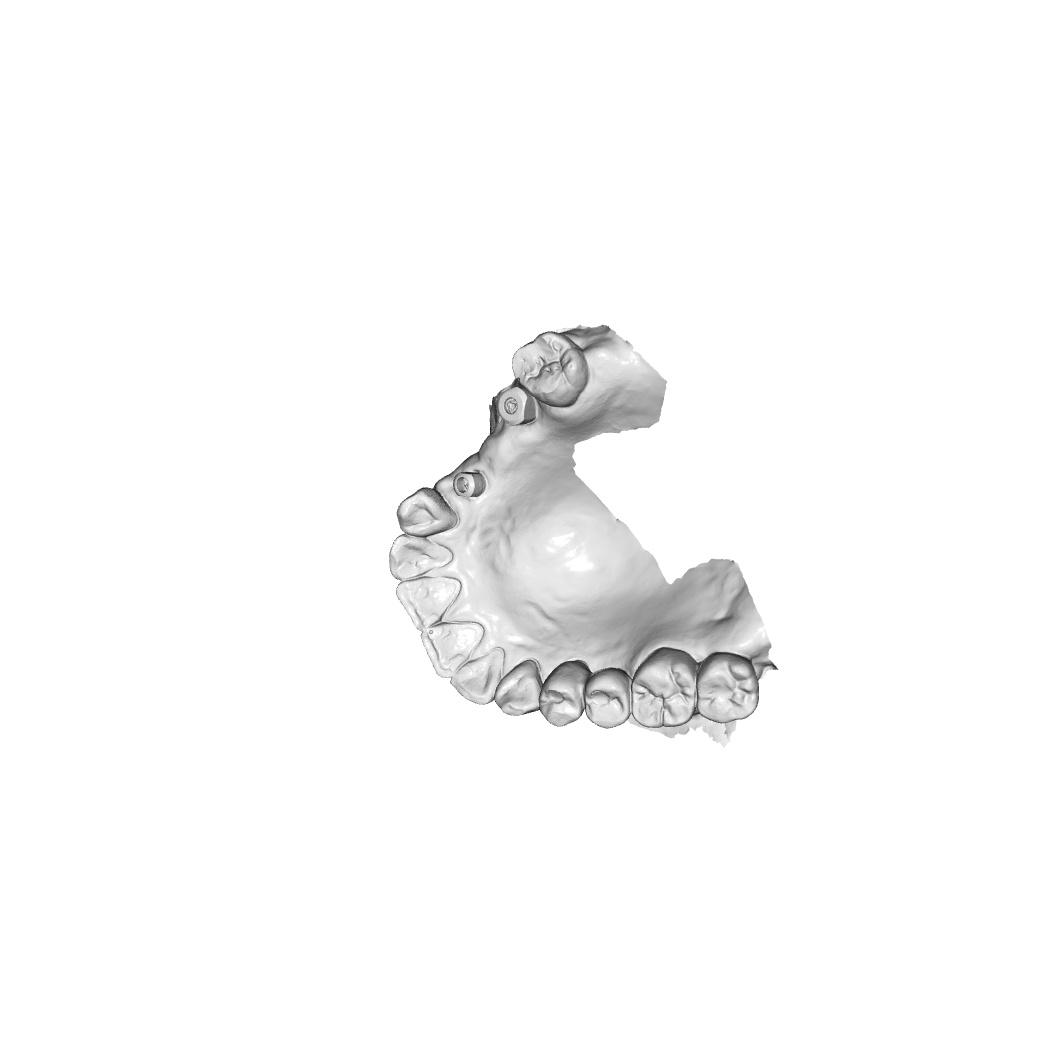canine: (396, 486, 460, 538), (493, 658, 542, 719)
implant: (496, 386, 539, 427), (452, 470, 489, 499)
incisor: (395, 574, 464, 632), (420, 620, 486, 680), (449, 646, 506, 707), (388, 534, 455, 581)
molar: (510, 330, 589, 408), (629, 647, 699, 729), (696, 650, 761, 724)
premolar: (538, 659, 590, 727), (584, 667, 633, 730)
